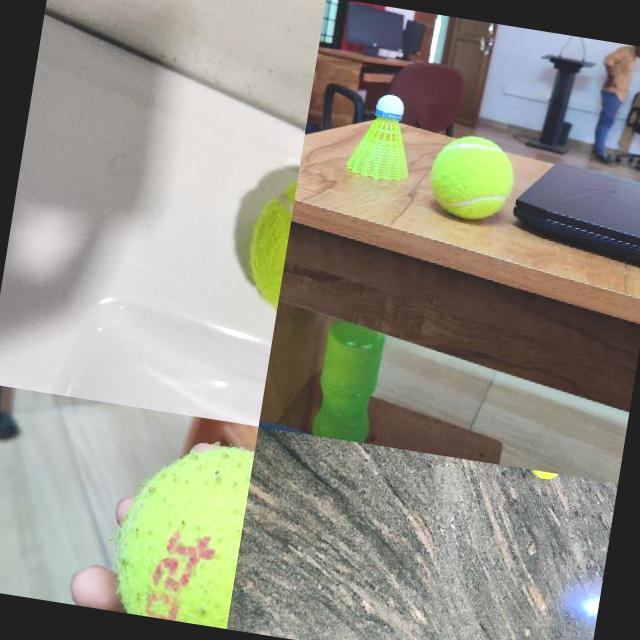Tennis Ball: (104, 431, 255, 628), (238, 162, 300, 327), (426, 131, 519, 224), (526, 470, 562, 482)
